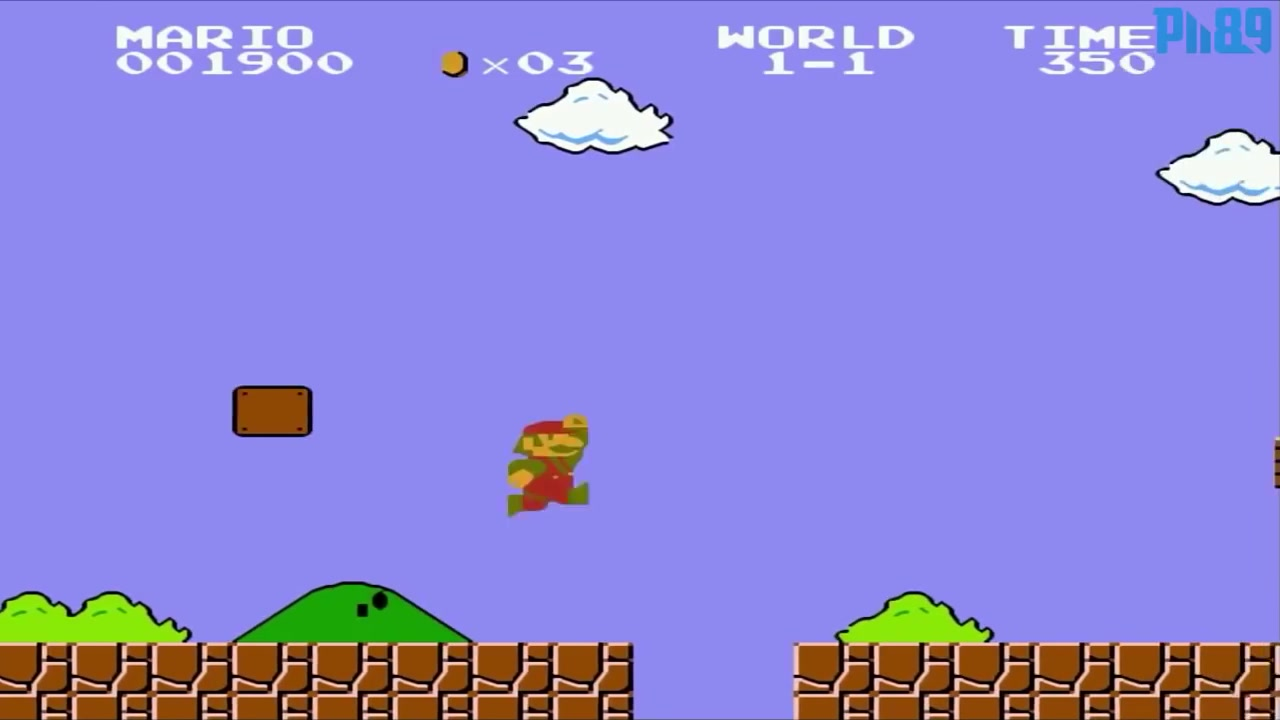mario: (495, 411, 593, 525)
